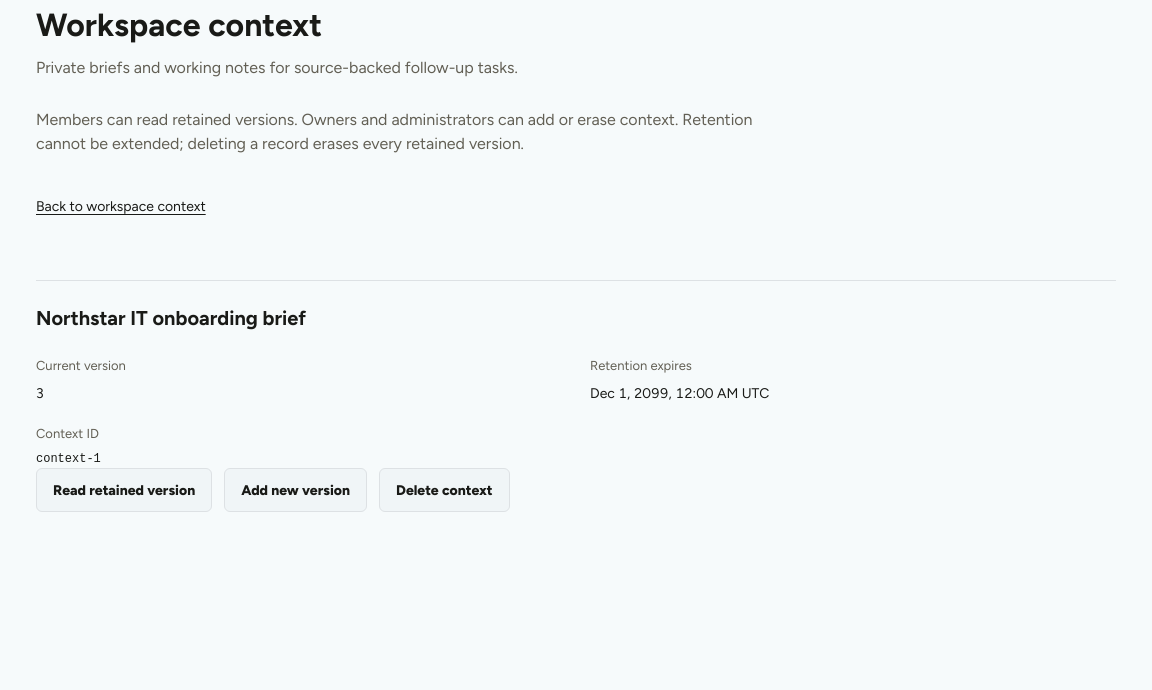
Test case: requires concrete DELETE confirmation and removes retained source after erasure
Click the button "Read retained version". click: [124, 490]
box: [36,468,212,512]
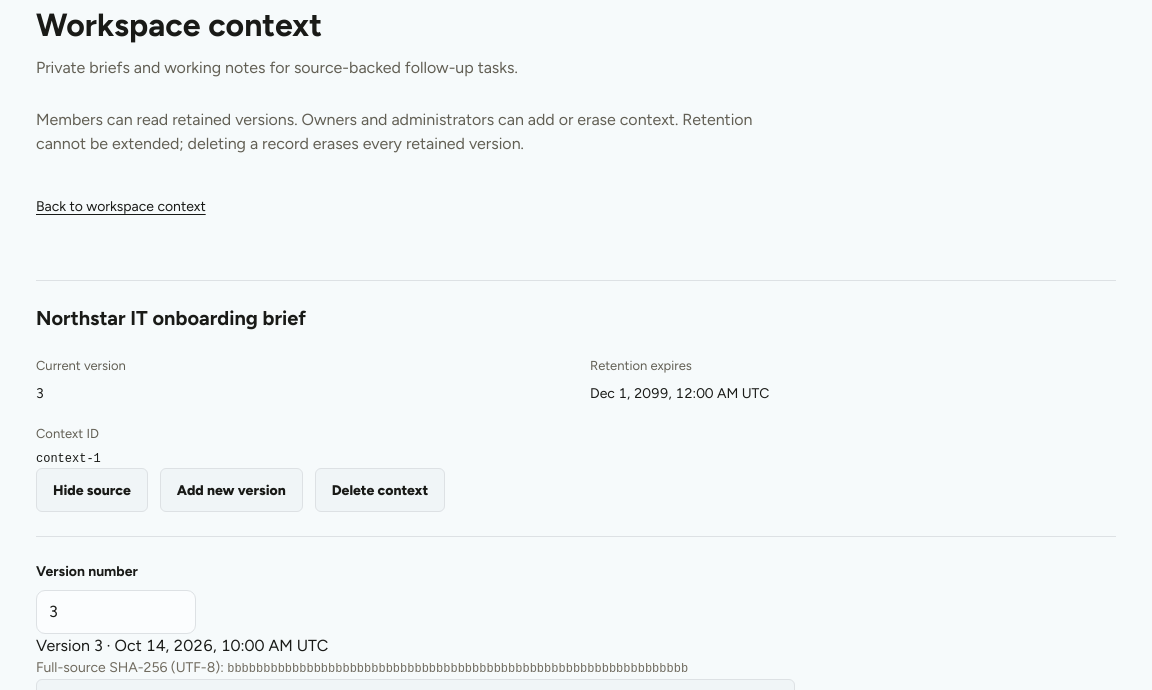
Click the button "Delete context". click: [380, 490]
box: [315,468,445,512]
(page scrolled)
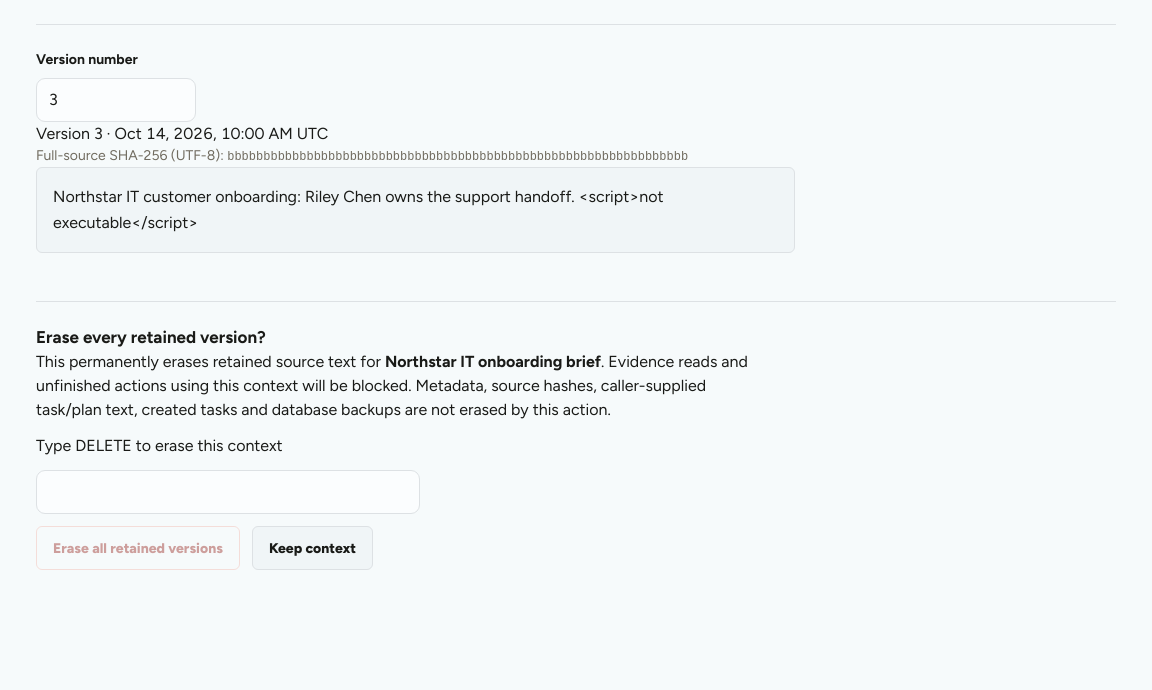
Check: the button "Erase all retained versions" is disabled, box [36,526,240,570]
Type "DELETE" into the field labelled "Type DELETE to erase this context". click: [228, 492]
box: [36,470,420,514]
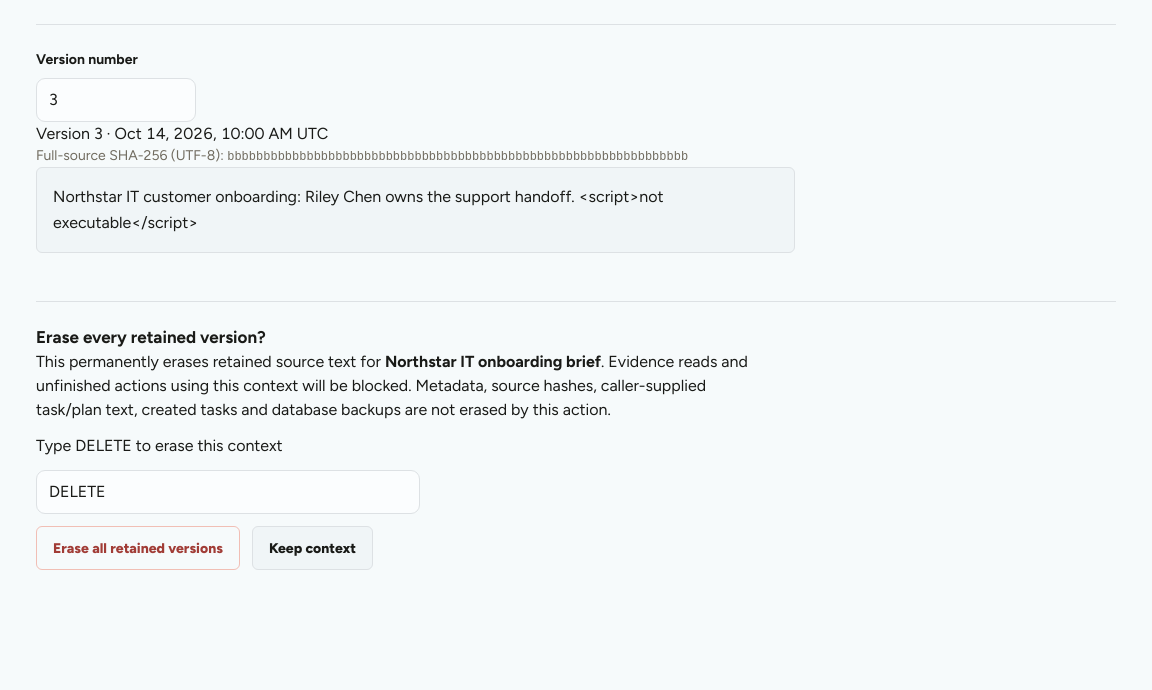
Click the button "Erase all retained versions". click: [138, 548]
box: [36,526,240,570]
(page scrolled)
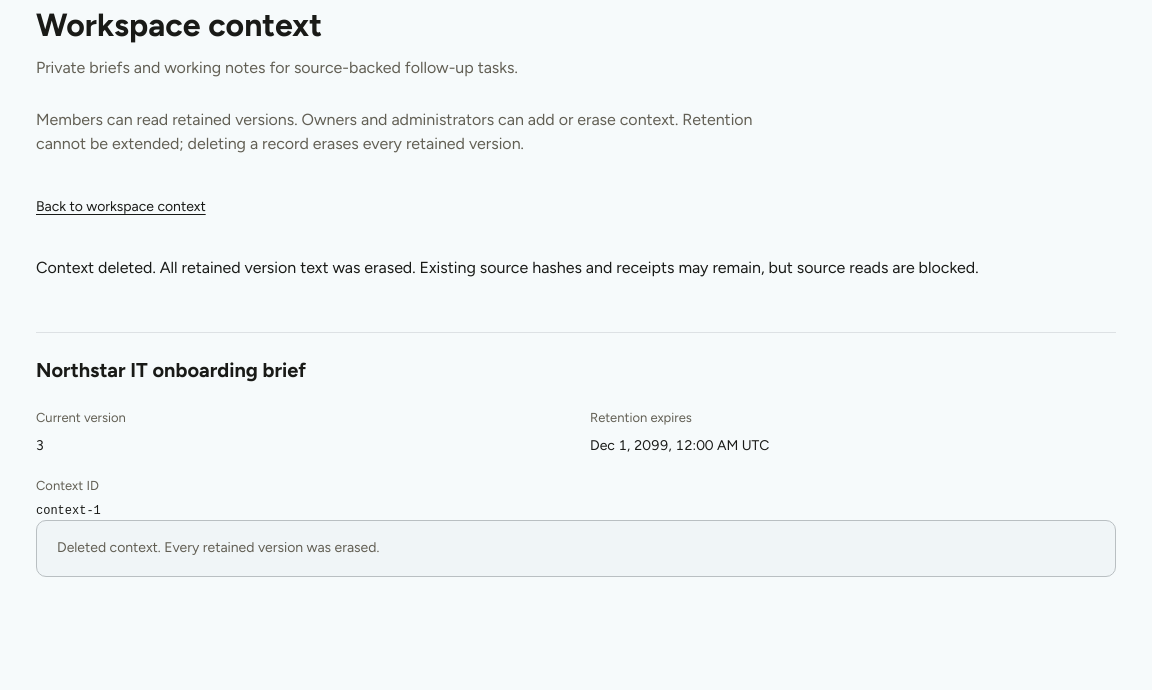
Check: the text "Deleted context. Every retained version was erased." is shown, box [36,520,1116,576]
Check: the text "Northstar IT customer onboarding: Riley Chen owns the support handoff. <script>not executable</script>" is gone
